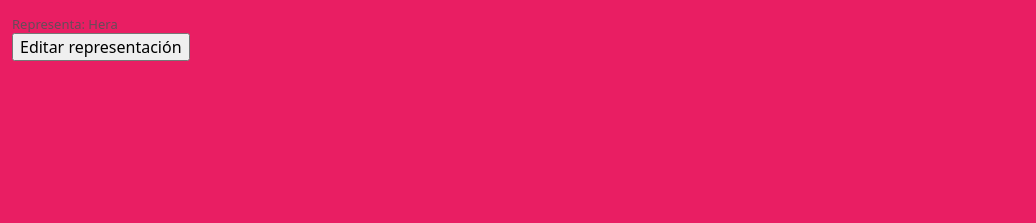
Test case: el texto admite hasta 1000 caracteres y muestra el contador
This screenshot has width=1036, height=223.
Click the button with aria-label "Editar representación de Carro": (101, 47) [12,33,190,61]
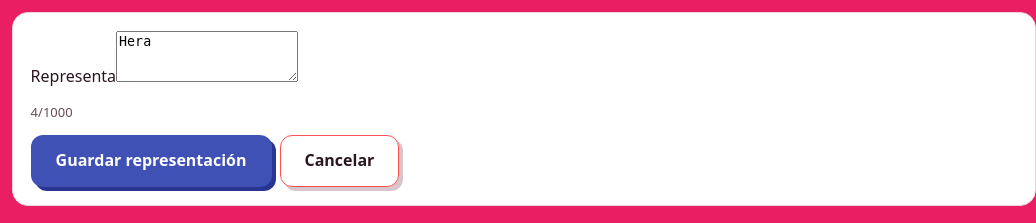
Expected: the text "4/1000" is shown, [31,103,73,121]
